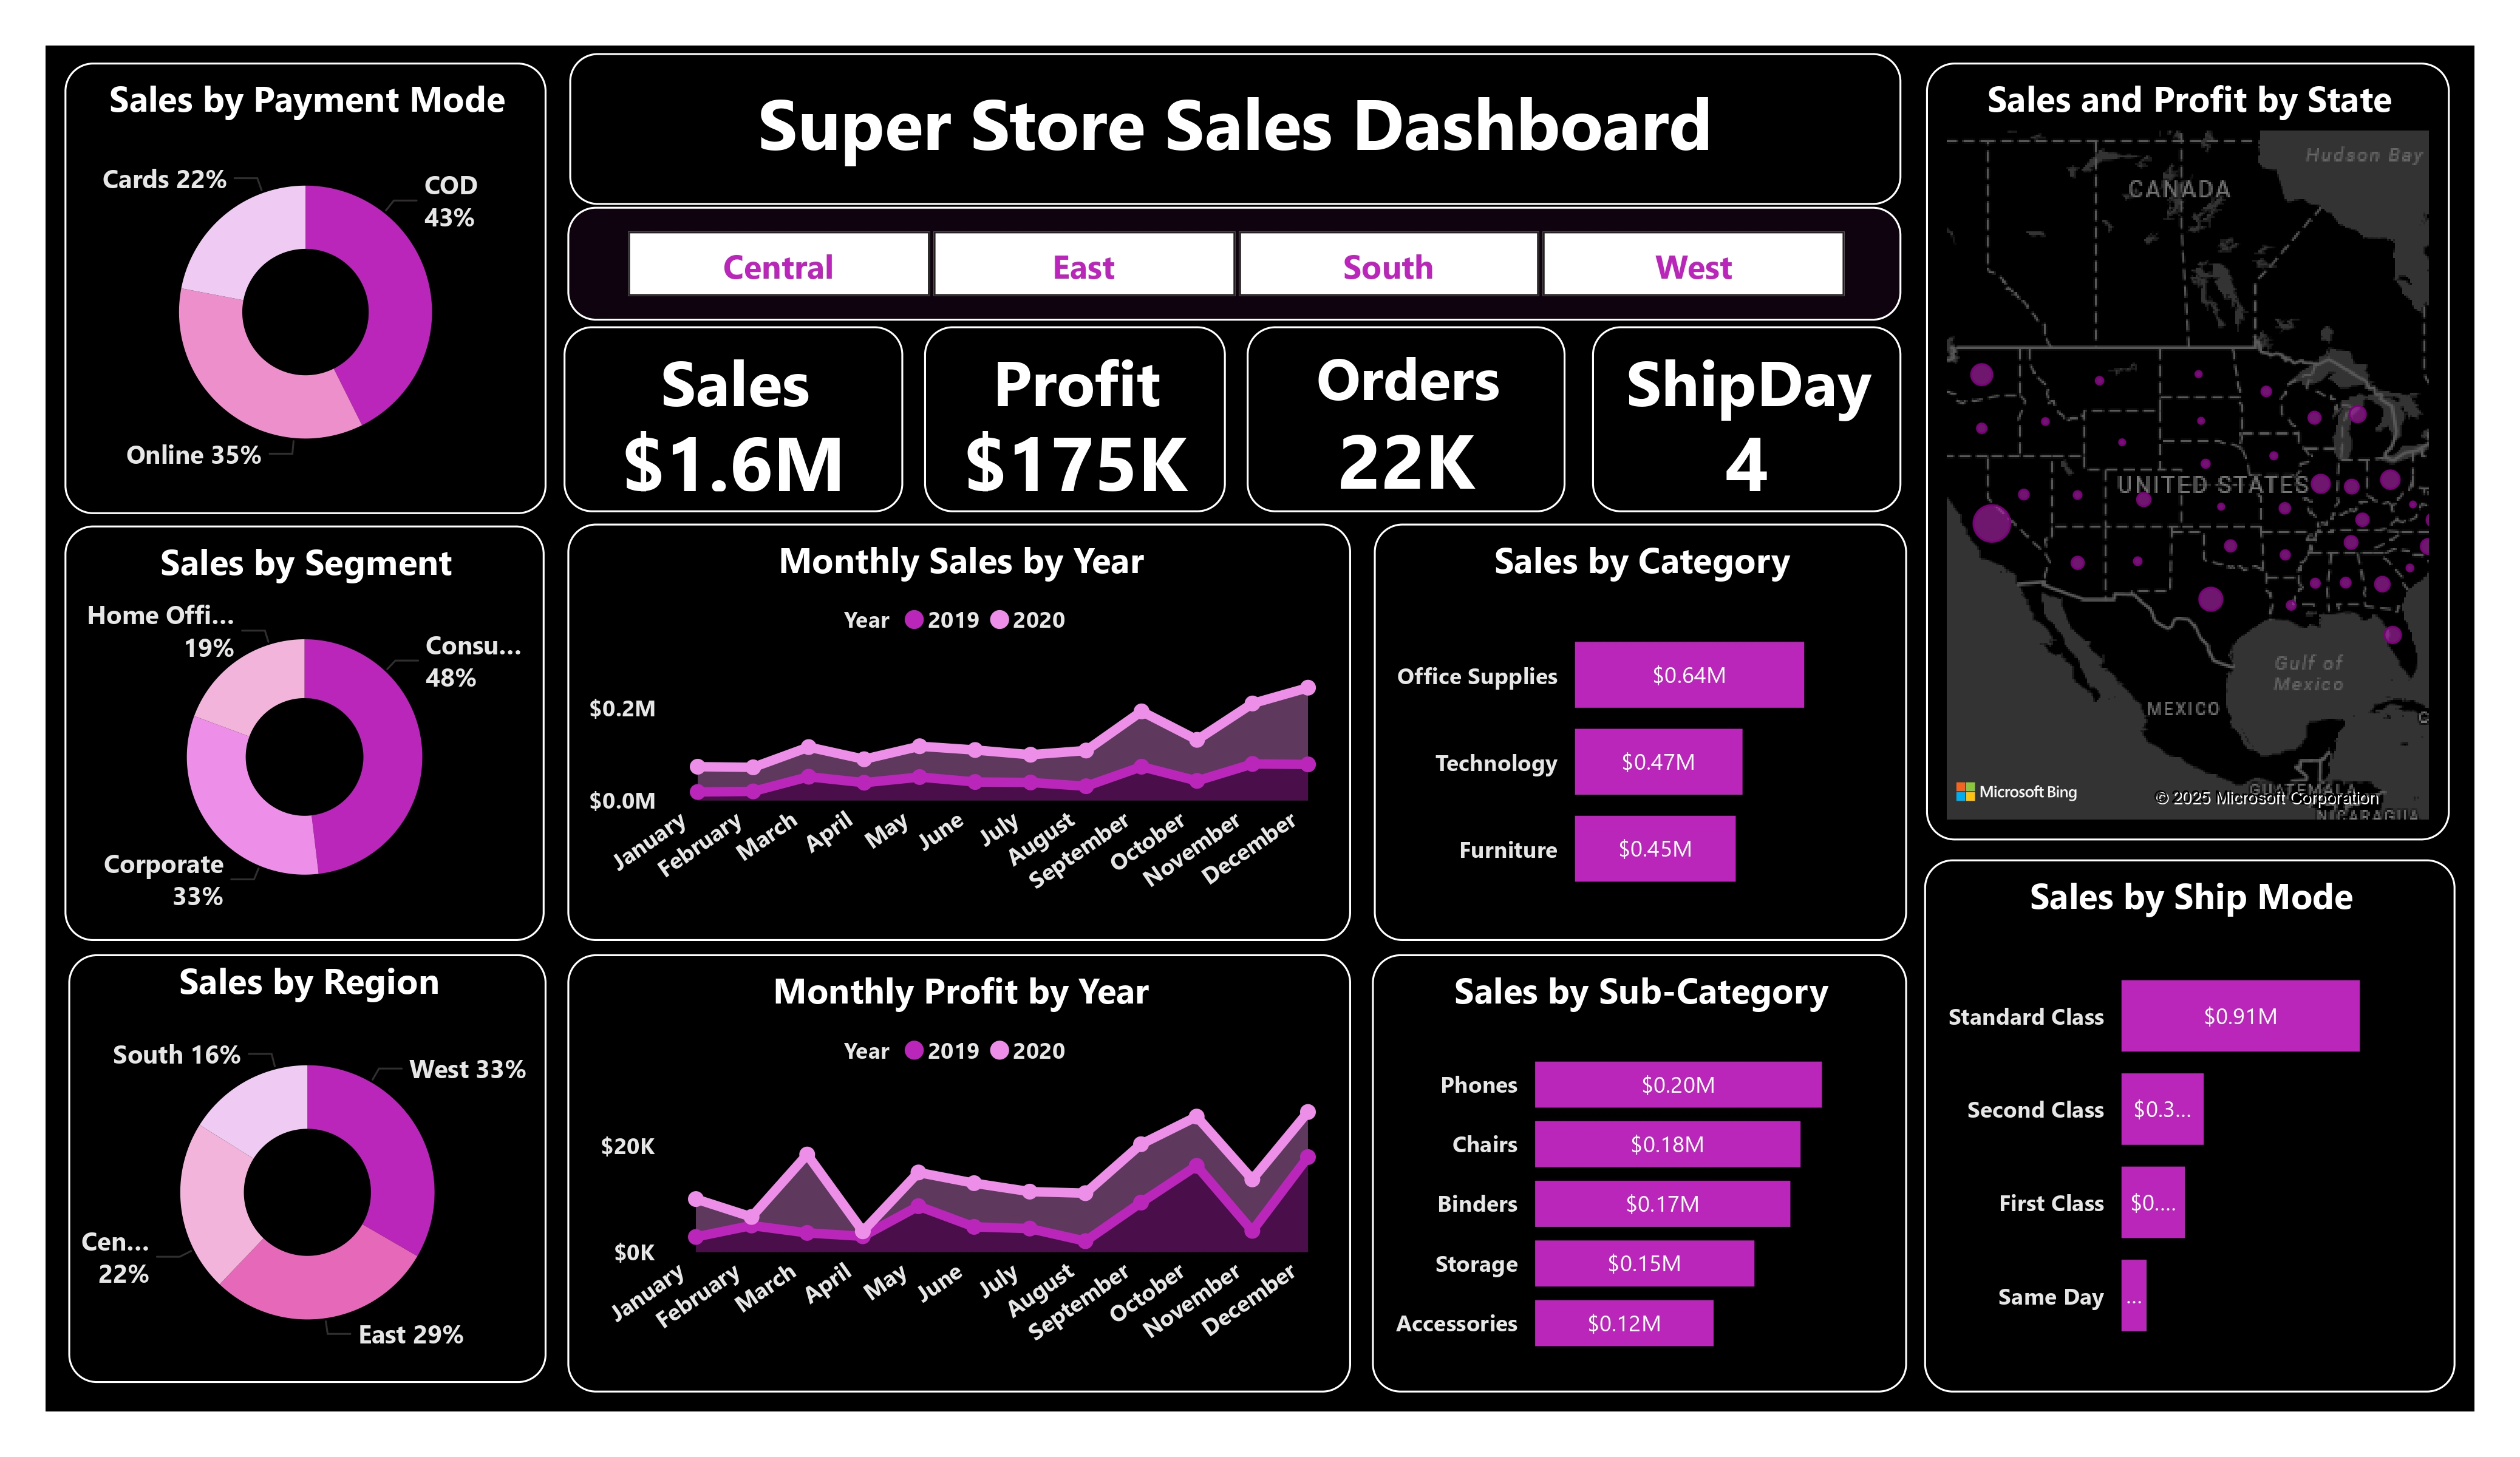

This screenshot's page, from the dashboard's own definition file:
{"tool":"powerbi","page":{"name":"Dashboard","canvas":[1280,720],"ordinal":0},"visuals":[{"type":"clusteredBarChart","title":"Sales by Category","fields":{"Category":["SuperStore_Sales_Dataset.Category"],"Y":["Sum(SuperStore_Sales_Dataset.Sales)"]},"box":[700,252.2,280.6,219.4],"z":0},{"type":"clusteredBarChart","title":"Sales by Sub-Category","fields":{"Category":["SuperStore_Sales_Dataset.Sub-Category"],"Y":["Sum(SuperStore_Sales_Dataset.Sales)"]},"box":[698.5,479.1,282.1,231.3],"z":1000},{"type":"clusteredBarChart","title":"Sales by Ship Mode","fields":{"Category":["SuperStore_Sales_Dataset.Ship Mode"],"Y":["Sum(SuperStore_Sales_Dataset.Sales)"]},"box":[990.4,429.1,279.2,280.7],"z":2000},{"type":"stackedAreaChart","title":"Monthly Sales by Year","fields":{"Category":["SuperStore_Sales_Dataset.Order Date.Variation.Date Hierarchy.Month"],"Y":["Sum(SuperStore_Sales_Dataset.Sales)"],"Series":["SuperStore_Sales_Dataset.Order Date.Variation.Date Hierarchy.Year"]},"box":[274.6,252.2,413.4,219.4],"z":3000},{"type":"stackedAreaChart","title":"Monthly Profit by Year","fields":{"Category":["SuperStore_Sales_Dataset.Order Date.Variation.Date Hierarchy.Month"],"Series":["SuperStore_Sales_Dataset.Order Date.Variation.Date Hierarchy.Year"],"Y":["Sum(SuperStore_Sales_Dataset.Profit)"]},"box":[274.6,479.1,413.4,231.3],"z":4000},{"type":"map","title":"Sales and Profit by State","fields":{"Category":["SuperStore_Sales_Dataset.State"],"Size":["Sum(SuperStore_Sales_Dataset.Sales)"]},"box":[991,9,276.1,410.4],"z":5000},{"type":"donutChart","title":"Sales by Segment","fields":{"Category":["SuperStore_Sales_Dataset.Segment"],"Y":["Sum(SuperStore_Sales_Dataset.Sales)"]},"box":[10.3,252.7,252.7,218.9],"z":6000},{"type":"donutChart","title":"Sales by Region","fields":{"Category":["SuperStore_Sales_Dataset.Region"],"Y":["Sum(SuperStore_Sales_Dataset.Sales)"]},"box":[11.8,479,252.7,226.3],"z":7000},{"type":"donutChart","title":"Sales by Payment Mode","fields":{"Y":["Sum(SuperStore_Sales_Dataset.Sales)"],"Category":["SuperStore_Sales_Dataset.Payment Mode"]},"box":[10.3,8.8,254.2,238],"z":8000},{"type":"slicer","fields":{"Values":["SuperStore_Sales_Dataset.Region"]},"box":[274.6,85.1,703,59.7],"z":9000},{"type":"textbox","box":[276.1,4.5,701.5,79.1],"z":10000},{"type":"card","title":"Sales","fields":{"Values":["Sum(SuperStore_Sales_Dataset.Sales)"]},"box":[273.1,147.8,179.1,98.5],"z":11000},{"type":"card","title":"ShipDay","fields":{"Values":["Avg(SuperStore_Sales_Dataset.Avg-Del Days)"]},"box":[814.9,147.8,162.7,98.5],"z":12000},{"type":"card","title":"Orders","fields":{"Values":["Sum(SuperStore_Sales_Dataset.Quantity)"]},"box":[632.8,147.8,168.7,98.5],"z":13000},{"type":"card","title":"Profit","fields":{"Values":["Sum(SuperStore_Sales_Dataset.Profit)"]},"box":[462.7,147.8,159.7,98.5],"z":14000}]}

Visuals, with their boxes in screenshot pixels (x1, y1, x2, y2):
"Sales by Category" clusteredBarChart: 1374,524,1906,940
"Sales by Sub-Category" clusteredBarChart: 1371,954,1906,1393
"Sales by Ship Mode" clusteredBarChart: 1925,860,2454,1392
"Monthly Sales by Year" stackedAreaChart: 567,524,1351,940
"Monthly Profit by Year" stackedAreaChart: 567,954,1351,1393
"Sales and Profit by State" map: 1926,63,2450,841
"Sales by Segment" donutChart: 65,525,545,940
"Sales by Region" donutChart: 68,954,548,1384
"Sales by Payment Mode" donutChart: 65,62,548,514
slicer - SuperStore_Sales_Dataset.Region: 567,207,1901,321
textbox: 570,54,1901,204
"Sales" card: 564,326,904,513
"ShipDay" card: 1592,326,1901,513
"Orders" card: 1246,326,1567,513
"Profit" card: 924,326,1227,513
